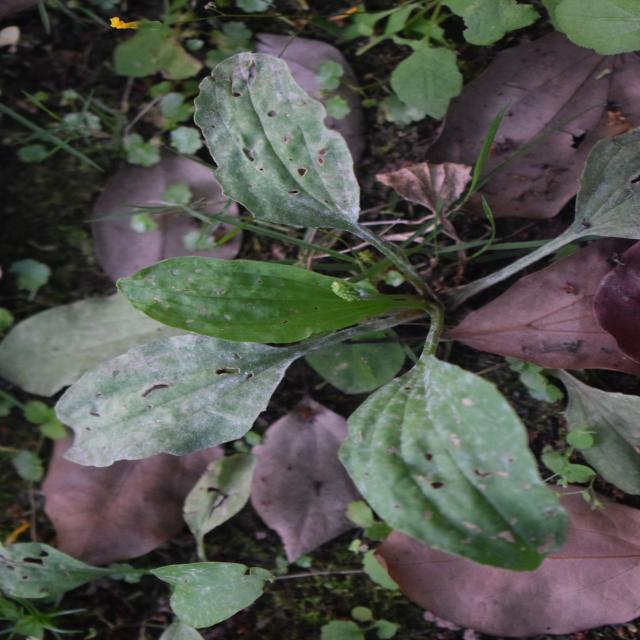plantain: (70, 88, 562, 529)
